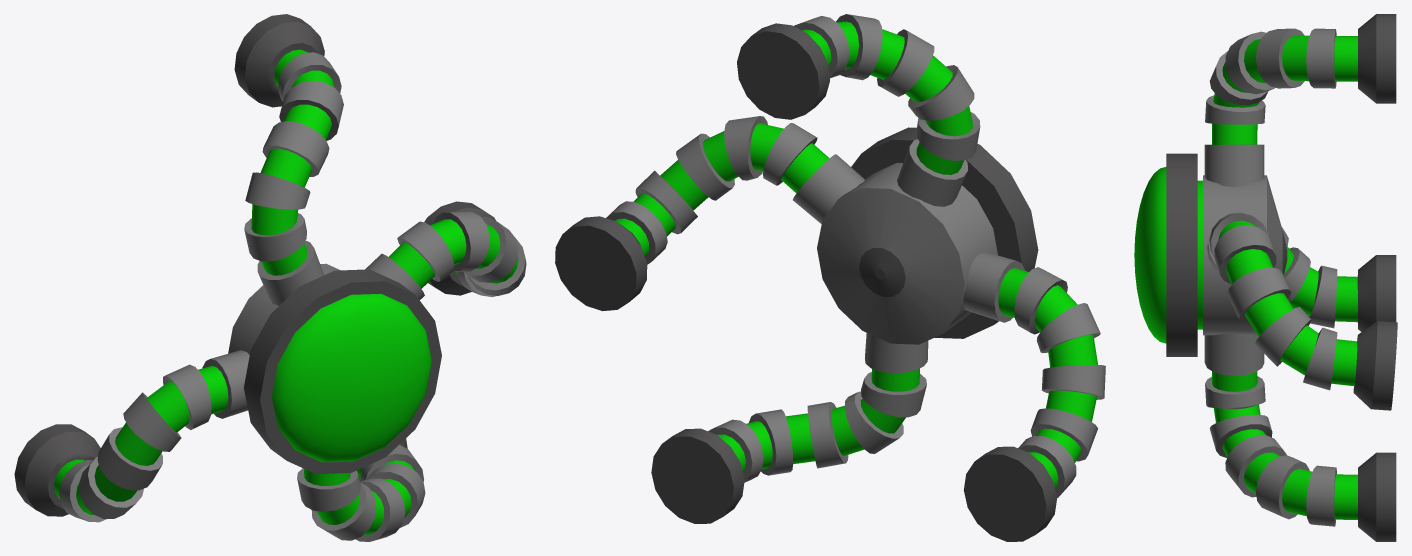
The model's file is Robot_Light_C.fbx.
3 renders of one model, left to right at view 1: azimuth 30°, elevation 25°; view 2: azimuth 150°, elevation 25°; view 3: azimuth 270°, elevation 25°, orthographic. The views are drawn at different scales.
Visible parts, largest first — view 1: pSphere28, pCylinder56, pCylinder57, pCylinder55, pCylinder58; view 2: pSphere28, pCylinder57, pCylinder55, pCylinder56, pCylinder58; view 3: pSphere28, pCylinder58, pCylinder56, pCylinder55, pCylinder57.
Part boxes in pixels (<box>): pSphere28: <box>228,263,441,474</box>; pCylinder56: <box>234,14,343,305</box>; pCylinder57: <box>14,350,249,522</box>; pCylinder55: <box>365,201,526,299</box>; pCylinder58: <box>297,438,425,541</box>; pSphere28: <box>817,127,1038,344</box>; pCylinder57: <box>963,252,1105,541</box>; pCylinder55: <box>555,116,864,311</box>; pCylinder56: <box>737,14,980,206</box>; pCylinder58: <box>651,333,928,523</box>; pSphere28: <box>1134,153,1287,356</box>; pCylinder58: <box>1204,333,1396,541</box>; pCylinder56: <box>1204,14,1396,187</box>; pCylinder55: <box>1207,212,1397,410</box>; pCylinder57: <box>1282,227,1396,331</box>.
Size of the model in its own units: 1.63 by 0.8022 by 1.62.
